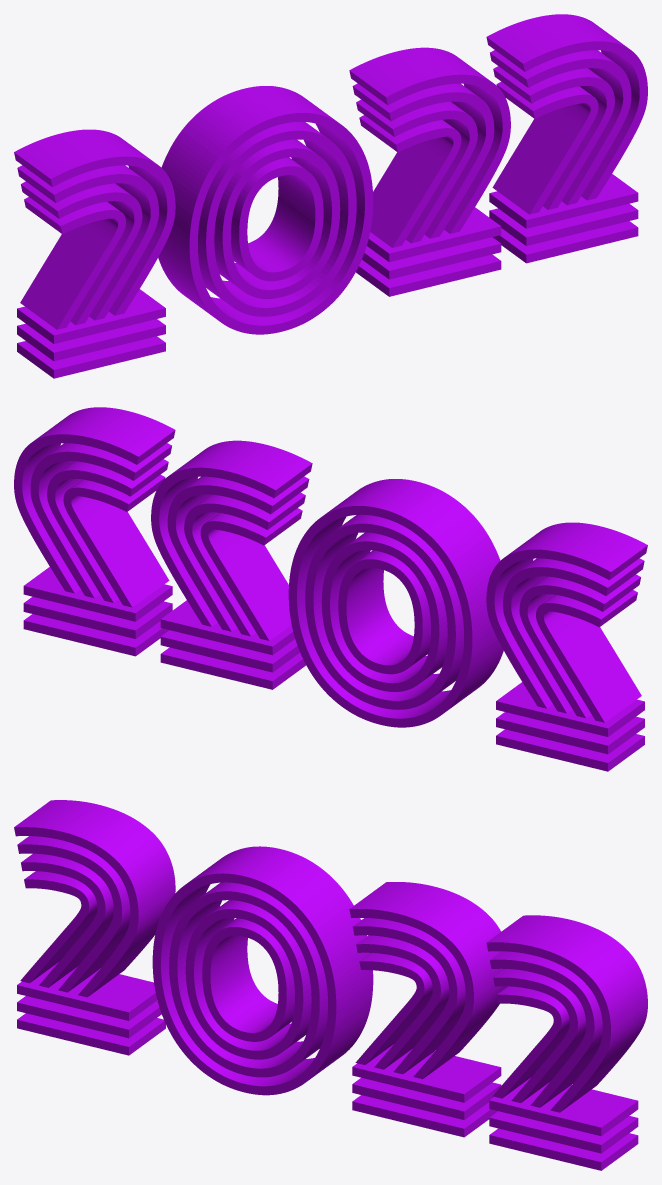
The model's file is newyear.glb.
3 views of the same model, one above another, from view 1: azimuth 30°, elevation 25°; view 2: azimuth 150°, elevation 25°; view 3: azimuth 330°, elevation 25° (orthographic).
Visible parts, largest first — view 1: Text; view 2: Text; view 3: Text.
Boxes of the visible parts, x1=… form: Text: x1=14, y1=14, x2=647, y2=378; Text: x1=14, y1=407, x2=647, y2=771; Text: x1=14, y1=800, x2=647, y2=1170.
Bounding box in the file's own units: 2.06 × 0.7114 × 0.22.
